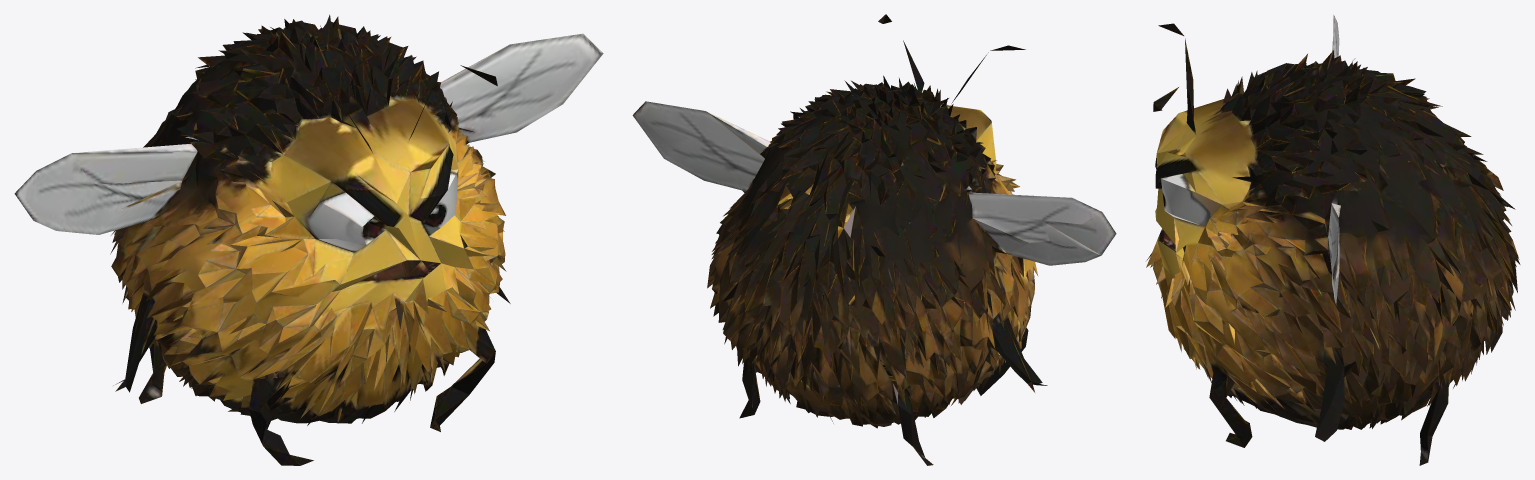
Rendered from ari.glb.
The picture shows the model from 3 angles, left to right: view 1: azimuth 30°, elevation 25°; view 2: azimuth 150°, elevation 25°; view 3: azimuth 270°, elevation 25°; orthographic projection. The views are drawn at different scales.
Size of the model in its own units: 1.9 by 1.23 by 1.16.
Materials: 1 (1 with a texture image).
